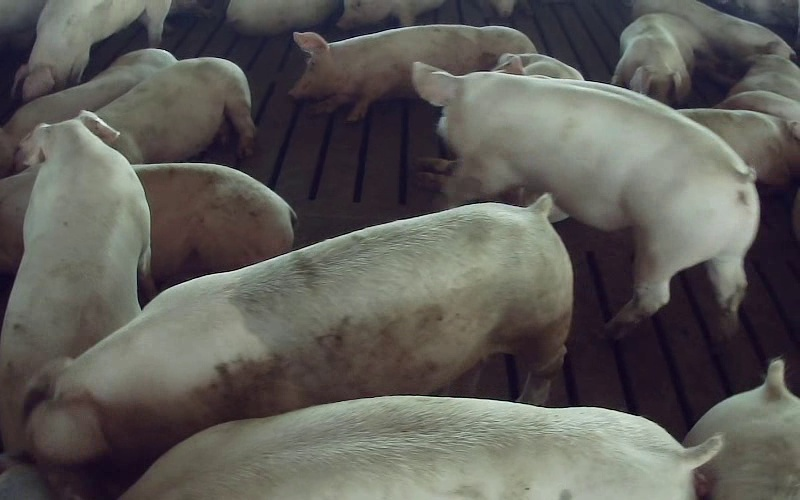pig: (30, 197, 572, 463), (414, 64, 758, 335), (124, 396, 721, 499), (0, 112, 149, 454), (290, 26, 536, 120), (96, 57, 254, 163), (3, 48, 176, 144), (683, 359, 799, 499), (13, 0, 170, 101), (632, 0, 793, 58), (612, 13, 714, 104), (716, 54, 799, 121)
